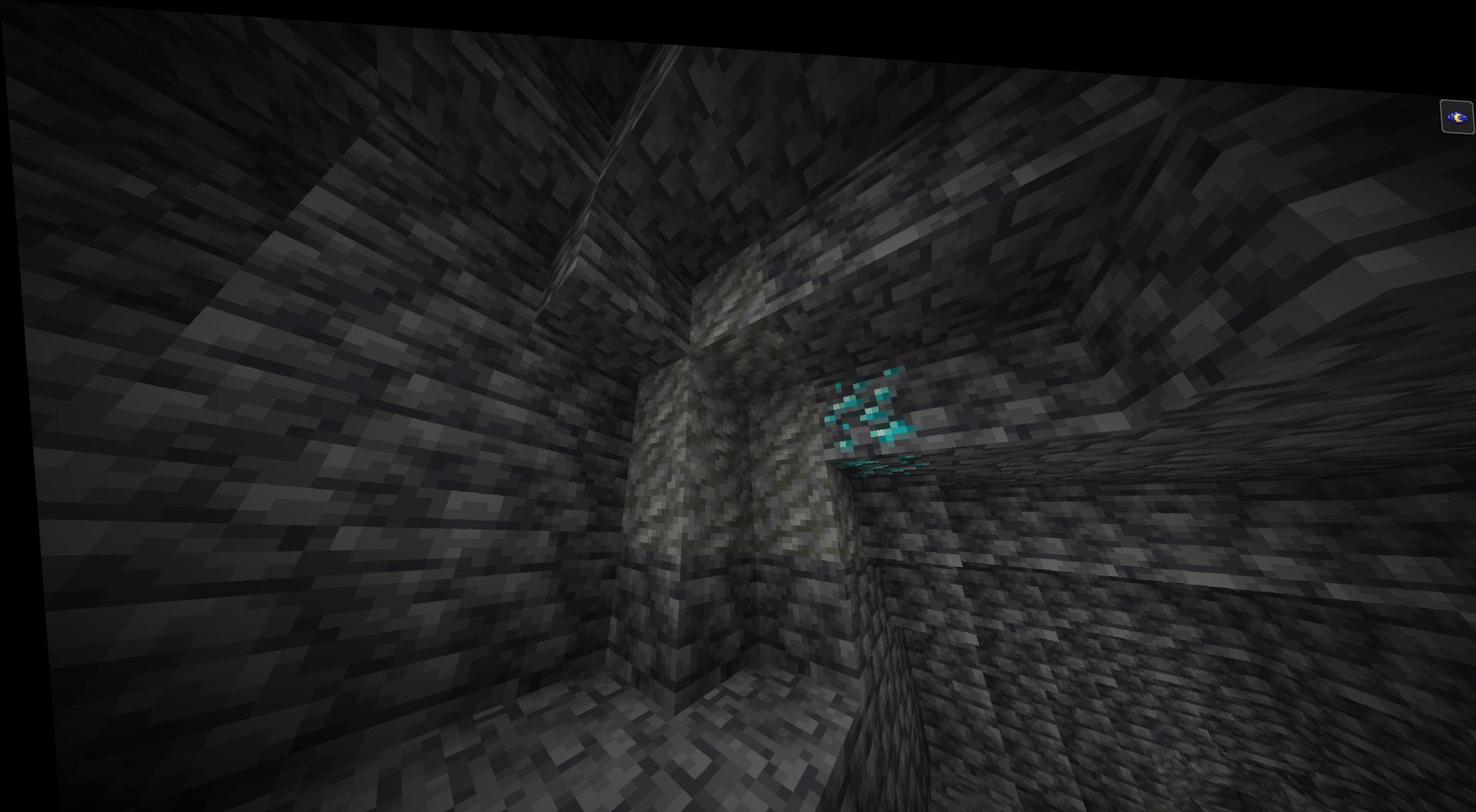diamond ore: (801, 351, 927, 474)
